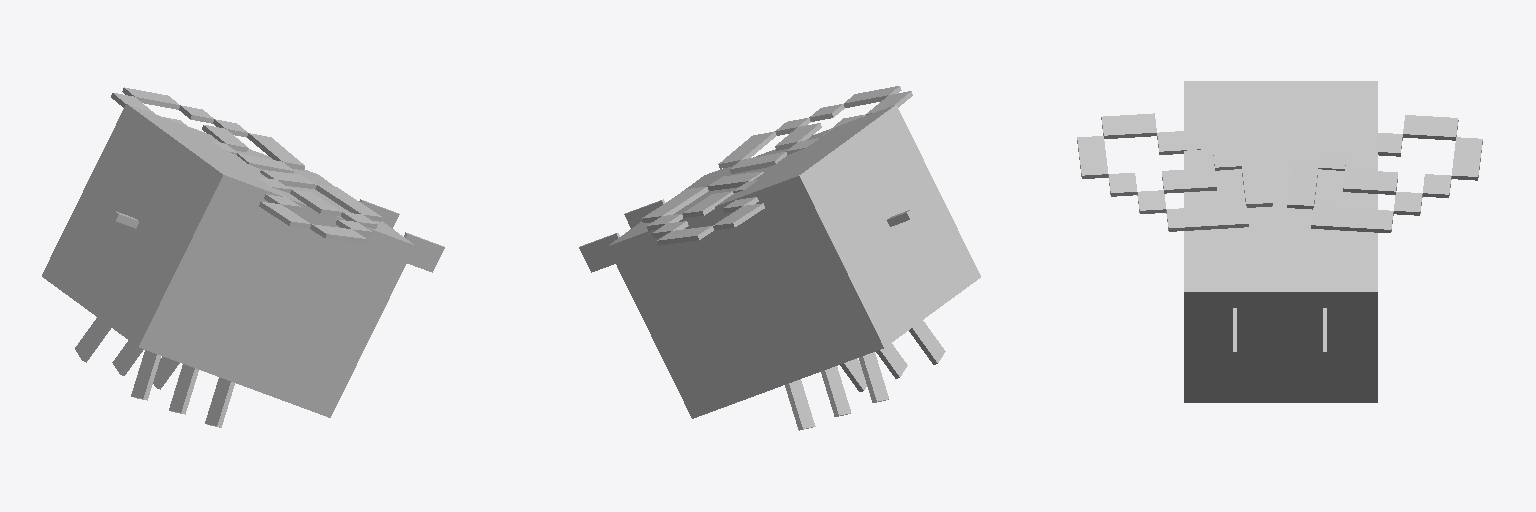
Rendered from Bee_ (166).obj.
3 renders of one model, left to right at view 1: azimuth 30°, elevation 25°; view 2: azimuth 150°, elevation 25°; view 3: azimuth 270°, elevation 25°, orthographic.
Visible parts, largest first — view 1: b_Bee_MAT_0, l_Bee_MAT_0, r_Bee_MAT_0; view 2: b_Bee_MAT_0, r_Bee_MAT_0, l_Bee_MAT_0; view 3: b_Bee_MAT_0, l_Bee_MAT_0, r_Bee_MAT_0.
Boxes of the visible parts, x1=… form: b_Bee_MAT_0: x1=42, y1=104, x2=444, y2=427; l_Bee_MAT_0: x1=258, y1=170, x2=382, y2=243; r_Bee_MAT_0: x1=111, y1=87, x2=304, y2=173; b_Bee_MAT_0: x1=579, y1=105, x2=980, y2=430; r_Bee_MAT_0: x1=642, y1=171, x2=764, y2=245; l_Bee_MAT_0: x1=718, y1=86, x2=912, y2=173; b_Bee_MAT_0: x1=1184, y1=81, x2=1377, y2=402; l_Bee_MAT_0: x1=1077, y1=113, x2=1272, y2=231; r_Bee_MAT_0: x1=1287, y1=115, x2=1482, y2=232.
Size of the model in its own units: 0.3091 by 0.2427 by 0.328.